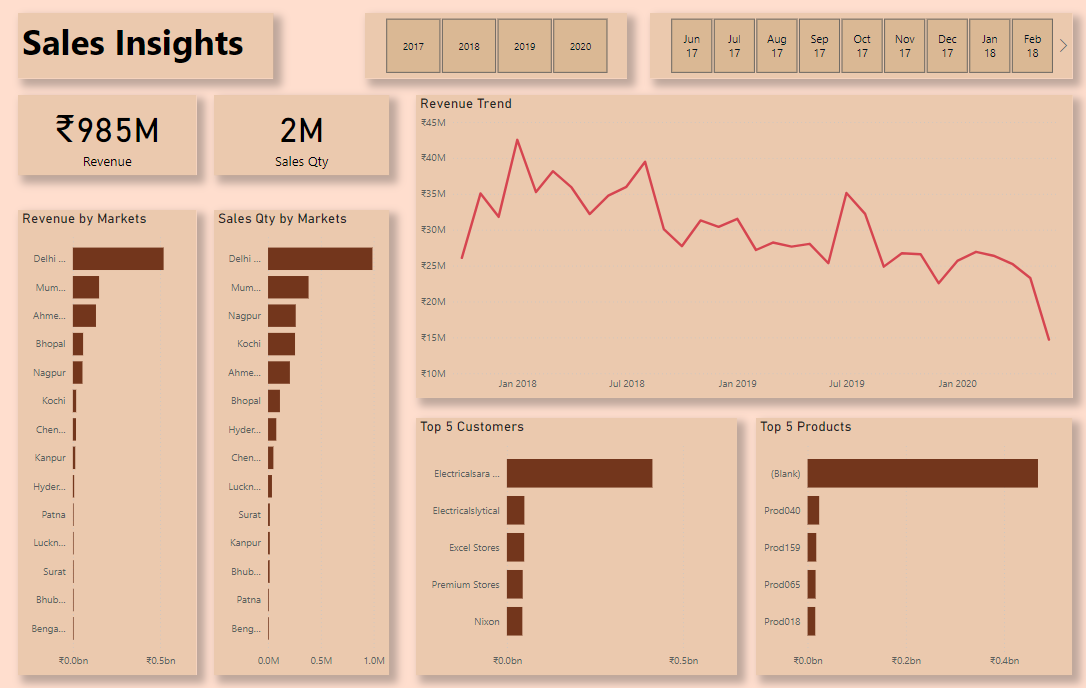

The page's visual inventory and layout, read from the dashboard file:
{"tool":"powerbi","page":{"name":"Key Insights","canvas":[1350,850],"ordinal":0},"visuals":[{"type":"card","fields":{"Values":["BaseMeasures (2).Revenue"]},"box":[30,116,218,98],"z":0},{"type":"card","fields":{"Values":["BaseMeasures (2).Sales Qty"]},"box":[270,116,214,98],"z":1000},{"type":"barChart","title":"Revenue by Markets","fields":{"Y":["BaseMeasures (2).Revenue"],"Category":["sales markets.markets_name"]},"box":[30,256,218,568],"z":2000},{"type":"barChart","title":"Sales Qty by Markets","fields":{"Y":["BaseMeasures (2).Sales Qty"],"Category":["sales markets.markets_name"]},"box":[270,256,214,568],"z":3000},{"type":"slicer","fields":{"Values":["sales date.year"]},"box":[454,16,320,80],"z":4000},{"type":"slicer","fields":{"Values":["sales date.cy_date"]},"box":[802,16,516,80],"z":5000},{"type":"barChart","title":"Top 5 Customers","fields":{"Y":["BaseMeasures (2).Revenue"],"Category":["sales customers.custmer_name"]},"box":[516,510,392,314],"z":6000},{"type":"barChart","title":"Top 5 Products","fields":{"Y":["BaseMeasures (2).Revenue"],"Category":["sales products.product_code"]},"box":[932,510,386,314],"z":7000},{"type":"lineChart","title":"Revenue Trend","fields":{"Y":["BaseMeasures (2).Revenue"],"Category":["sales date.cy_date"]},"box":[516,116,802,370],"z":8000},{"type":"textbox","box":[30,16,312,80],"z":9000}]}

Visuals, with their boxes in screenshot pixels (x1, y1, x2, y2), scaled from the page's 1350x850 canvas onto the 1086x688 screenshot:
card - BaseMeasures (2).Revenue: 24:94:200:173
card - BaseMeasures (2).Sales Qty: 217:94:389:173
"Revenue by Markets" barChart: 24:207:200:667
"Sales Qty by Markets" barChart: 217:207:389:667
slicer - sales date.year: 365:13:623:78
slicer - sales date.cy_date: 645:13:1060:78
"Top 5 Customers" barChart: 415:413:730:667
"Top 5 Products" barChart: 750:413:1060:667
"Revenue Trend" lineChart: 415:94:1060:393
textbox: 24:13:275:78
